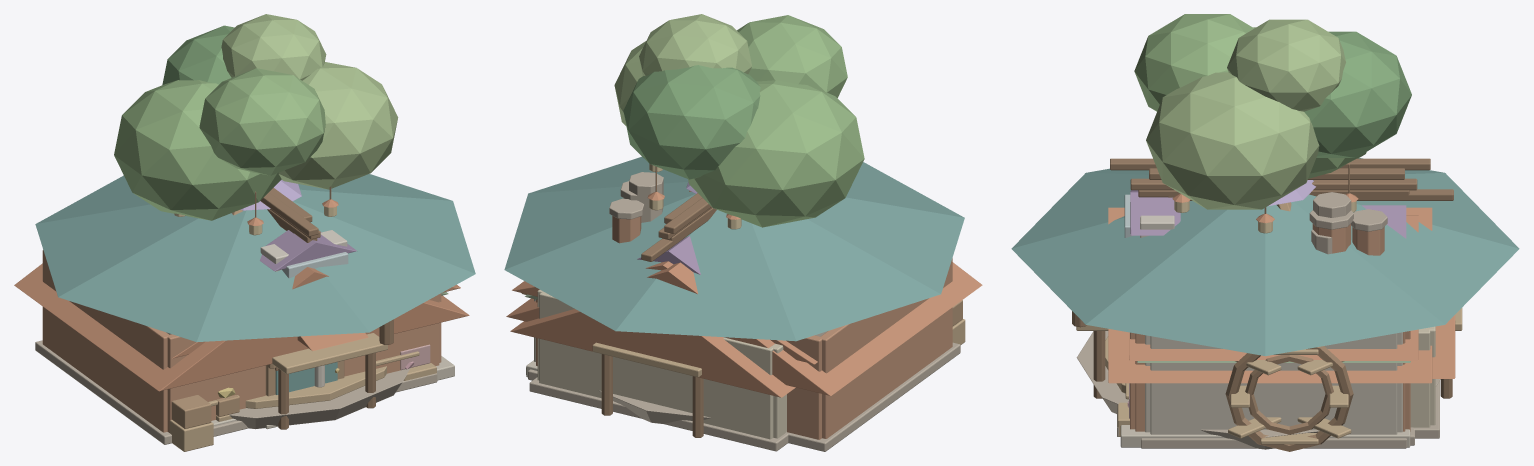
Rendered from buildings.glb.
The picture shows the model from 3 angles, left to right: view 1: azimuth 30°, elevation 25°; view 2: azimuth 150°, elevation 25°; view 3: azimuth 270°, elevation 25°; orthographic projection. The views are drawn at different scales.
Visible parts, largest first — view 1: cafe_pavilion, kindred_tree, workshop_barn, stage_bandstand, dock_jetty, shop_boutique, shop_furnish, shop_grocer, home_cottage, glasshouse; view 2: cafe_pavilion, kindred_tree, home_cottage, workshop_barn, dock_jetty, shop_furnish, stage_bandstand, shop_boutique; view 3: cafe_pavilion, kindred_tree, shop_furnish, workshop_barn, home_cottage, shop_boutique, stage_bandstand, shop_grocer, dock_jetty.
Boxes of the visible parts, box(x1,y1,x2,y2) form: cafe_pavilion: box(35, 174, 475, 425); kindred_tree: box(114, 14, 398, 235); workshop_barn: box(14, 192, 469, 451); stage_bandstand: box(229, 179, 410, 429); dock_jetty: box(268, 319, 393, 429); shop_boutique: box(260, 187, 356, 278); shop_furnish: box(166, 209, 460, 380); shop_grocer: box(216, 209, 448, 421); home_cottage: box(272, 216, 368, 350); glasshouse: box(213, 373, 437, 436); cafe_pavilion: box(504, 156, 964, 377); kindred_tree: box(614, 14, 864, 229); home_cottage: box(510, 198, 795, 451); workshop_barn: box(506, 172, 982, 451); dock_jetty: box(592, 342, 703, 437); shop_furnish: box(512, 181, 827, 374); stage_bandstand: box(599, 182, 710, 423); shop_boutique: box(637, 193, 702, 274); cafe_pavilion: box(1011, 158, 1519, 447); kindred_tree: box(1107, 14, 1411, 387); shop_furnish: box(1117, 178, 1418, 448); workshop_barn: box(1108, 158, 1432, 451); home_cottage: box(1168, 189, 1455, 438); shop_boutique: box(1124, 168, 1406, 238); stage_bandstand: box(1076, 180, 1440, 449); shop_grocer: box(1127, 190, 1410, 407); dock_jetty: box(1072, 308, 1462, 398).
Size of the model in its own units: 13.18 by 10.45 by 13.18.
